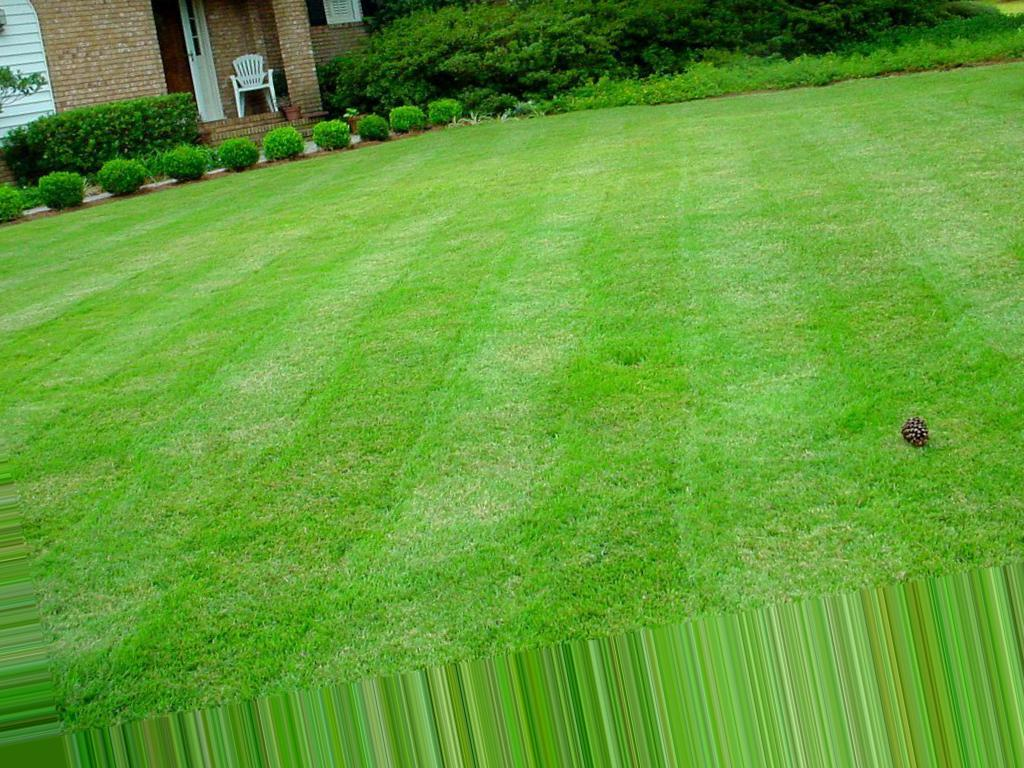patch: (897, 422, 938, 447)
